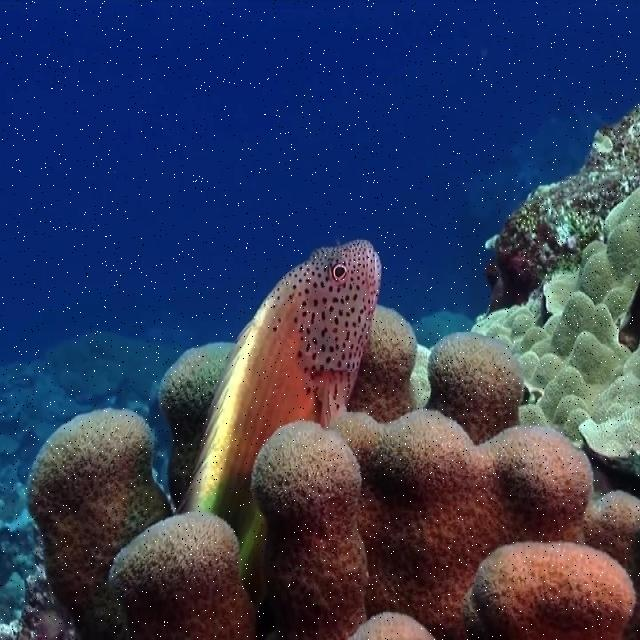fish: (178, 240, 383, 514)
reefs: (328, 409, 639, 639), (471, 187, 639, 458), (25, 407, 174, 609), (251, 422, 368, 639), (109, 513, 254, 639), (158, 343, 237, 510), (424, 331, 524, 445)
